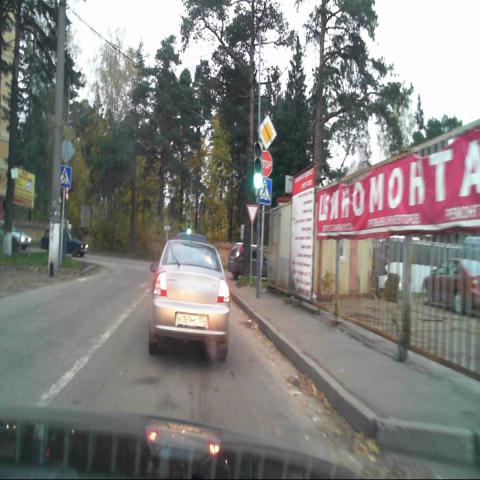2_2: (258, 115, 276, 151)
5_19_1: (59, 167, 71, 189)
